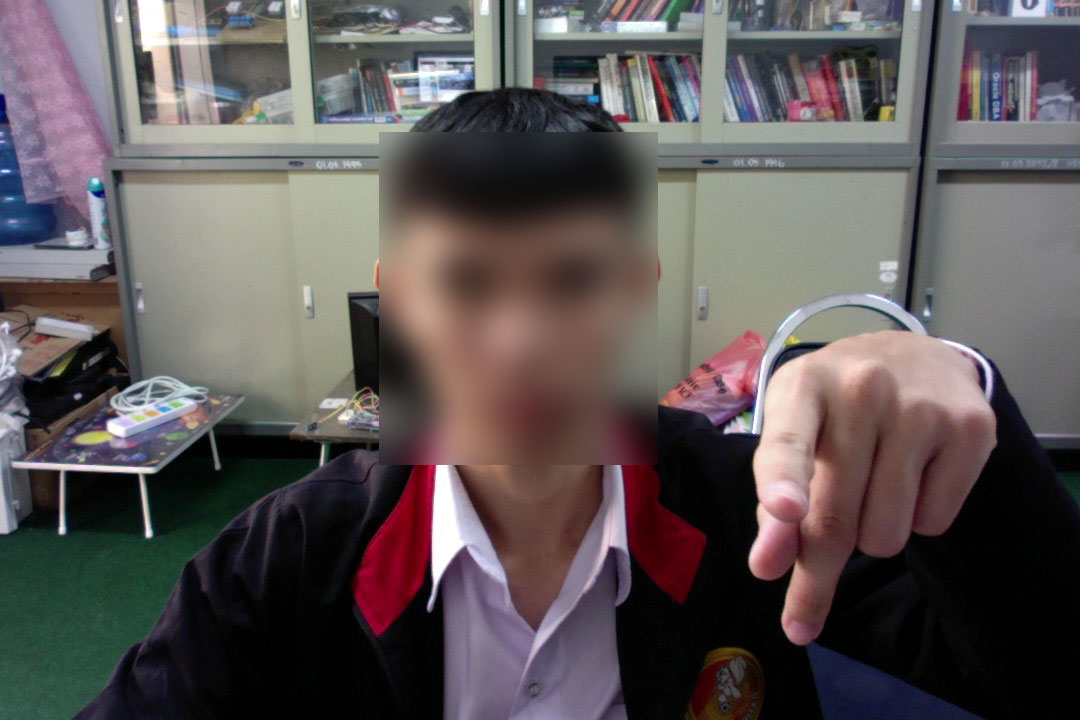por: (748, 319, 999, 651)
